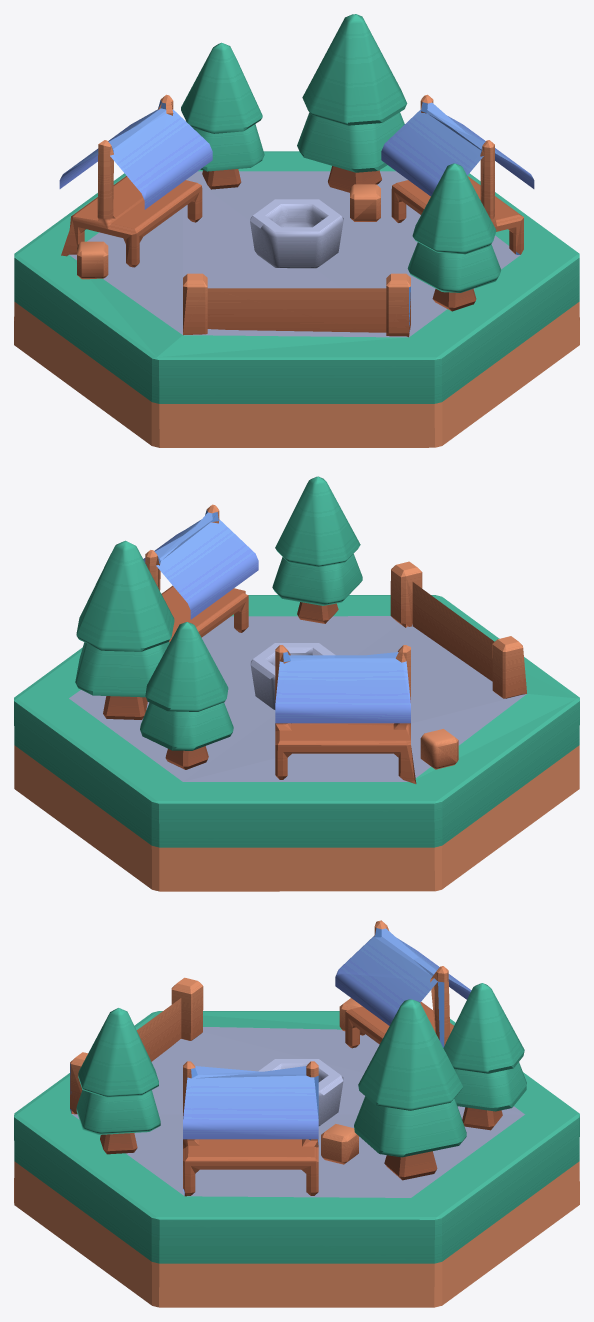
The model's file is kenney-hexagon__building-market.glb.
The picture shows the model from 3 angles, top to bottom: view 1: azimuth 30°, elevation 25°; view 2: azimuth 150°, elevation 25°; view 3: azimuth 270°, elevation 25°; orthographic projection.
Visible parts, largest first — view 1: building-market; view 2: building-market; view 3: building-market.
Part boxes in pixels (bbox=[...]): building-market: bbox=[14, 14, 579, 447]; building-market: bbox=[14, 476, 579, 891]; building-market: bbox=[14, 920, 579, 1307].
Size of the model in its own units: 1 by 0.58 by 1.15.
Materials: 1 (1 with a texture image).
